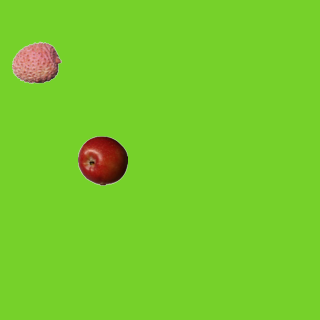Apple Braeburn: (77, 135, 127, 185)
Lychee: (11, 37, 61, 87)
